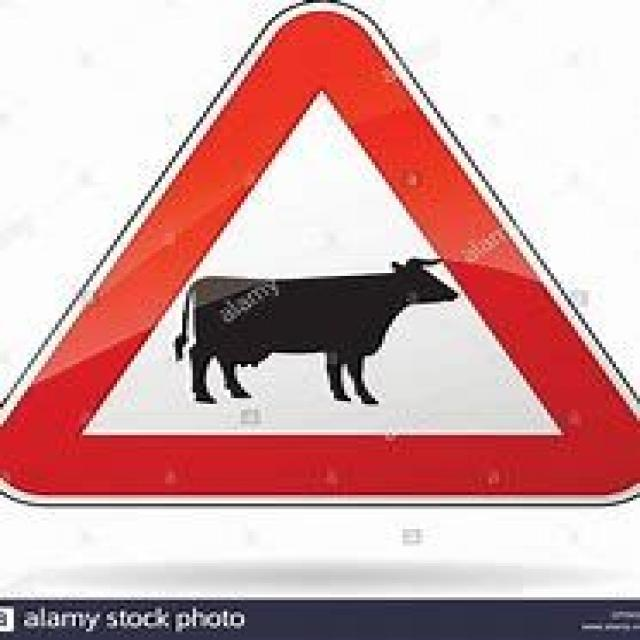CATTLE: (0, 0, 637, 509)
